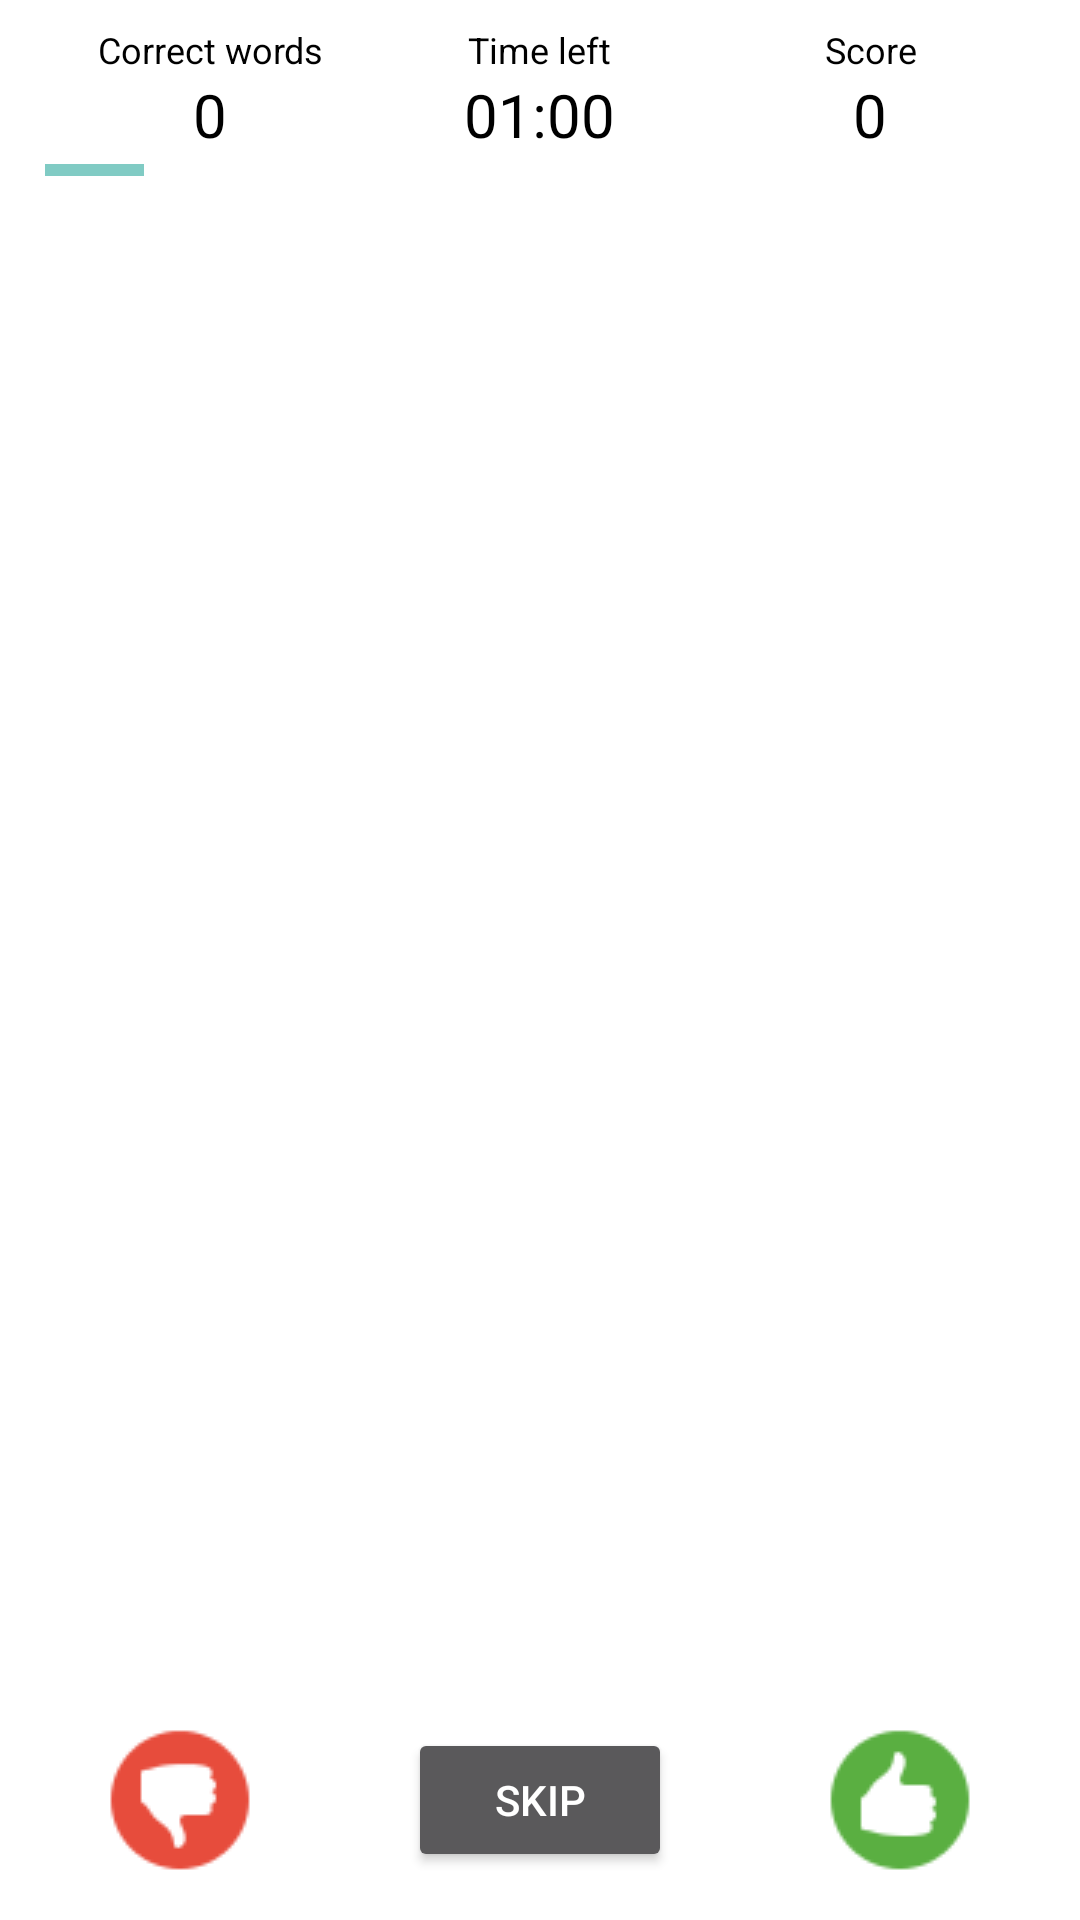

Icons on this 1080x1920 Android screen, each with its box as detection(x1, y1, x2, y2):
like: detection(830, 1730, 970, 1870)
unlike: detection(110, 1730, 250, 1870)
